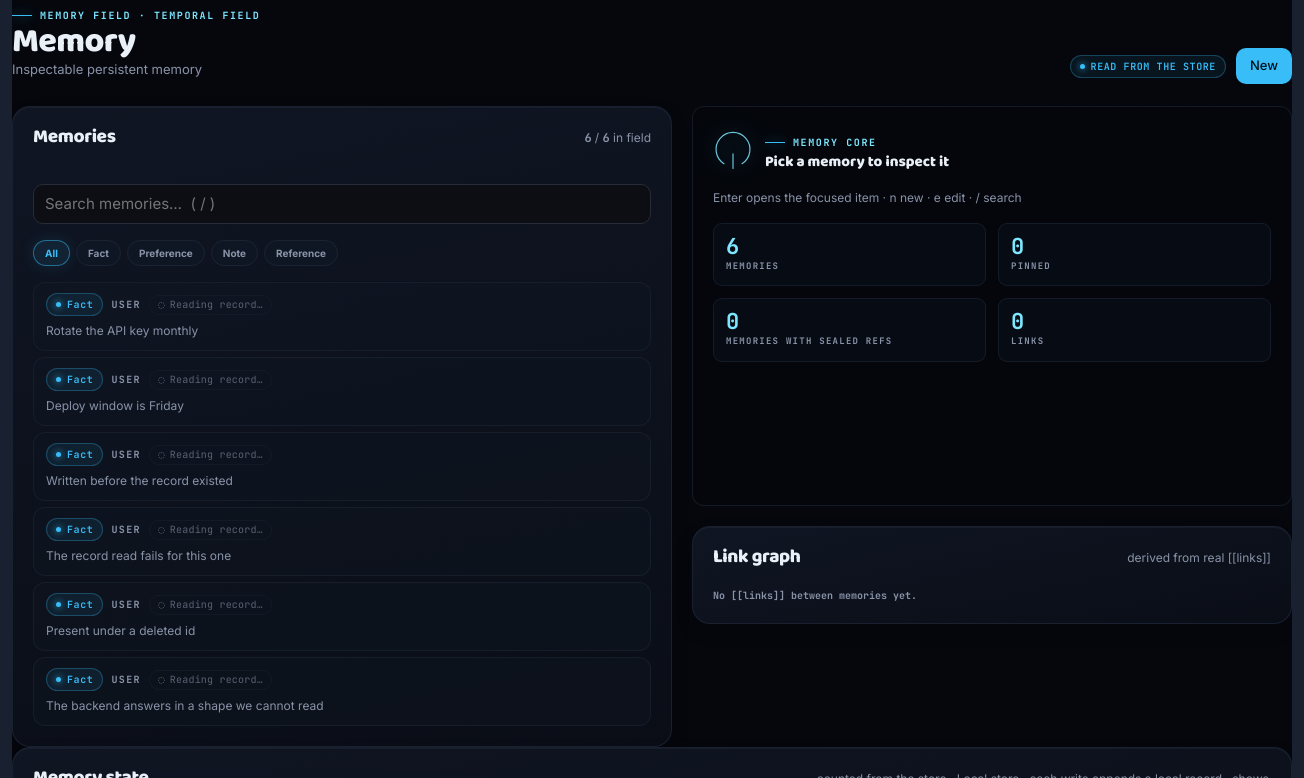
Memory — a diverged row is not a shade of a recorded one › states what actually happened, with the recorded and the current hash
The image size is (1304, 778).
Click the text "Deploy window is Friday" at (115, 406), box [46,397,184,415]
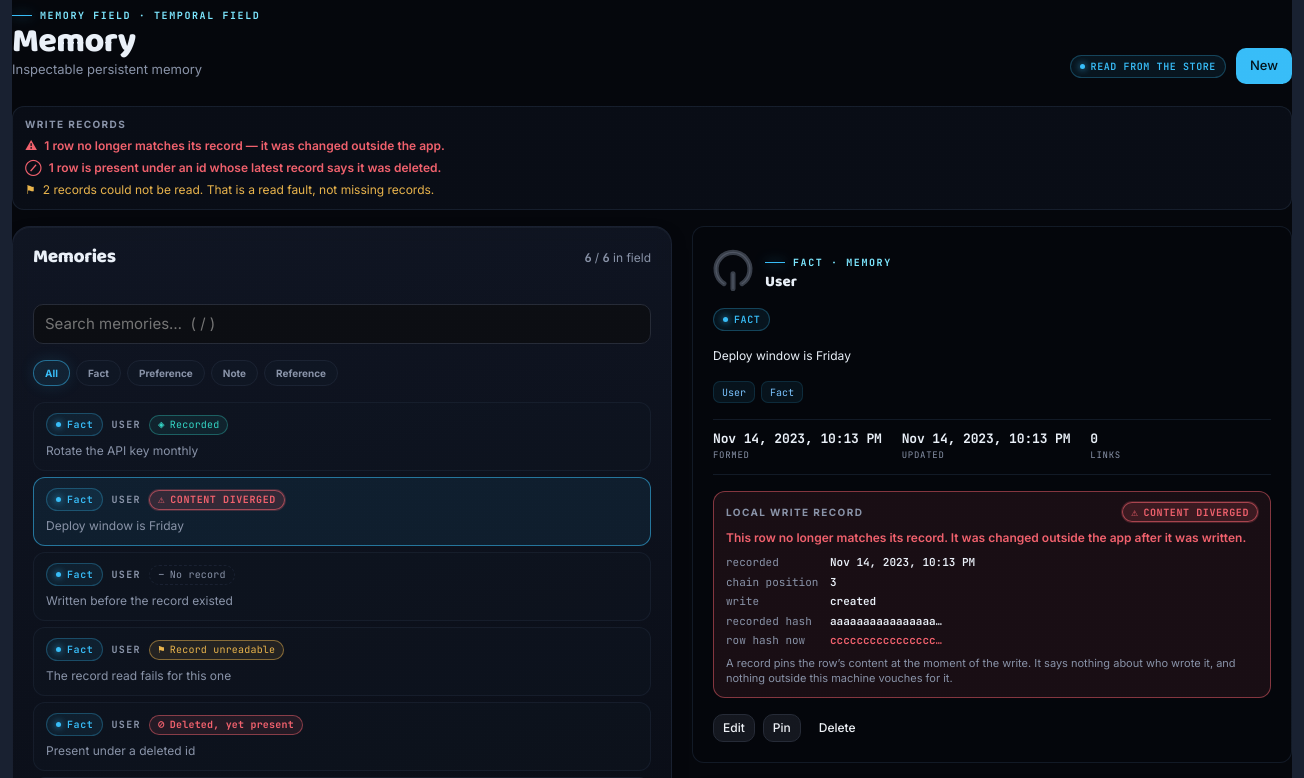
expect the button "Delete" is shown: met, box [809,714,866,742]
